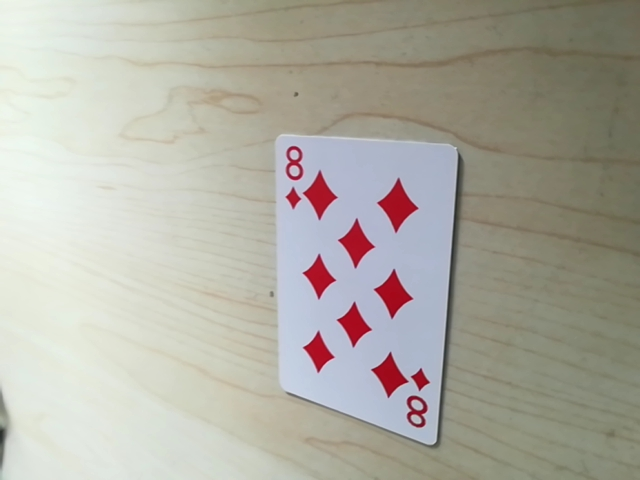fk 8: (398, 373, 434, 439), (277, 140, 314, 192)
